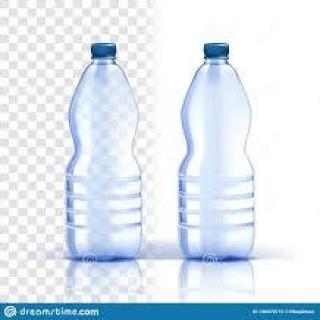Plastic-bottle: (61, 40, 148, 267), (176, 38, 261, 263)
